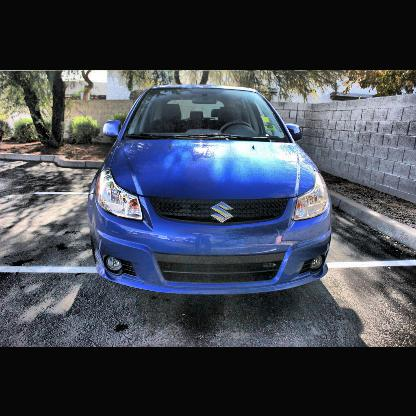Suzuki SX4 Hatchback 2012: (88, 85, 332, 296)
